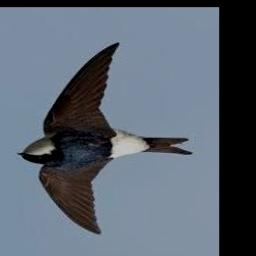Swallow: (16, 44, 193, 236)
